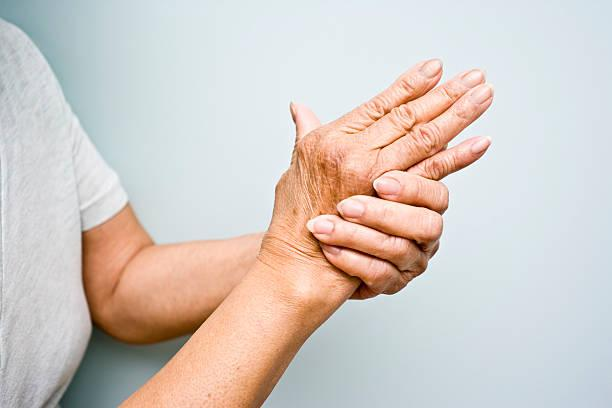Dry-Skin: (280, 137, 371, 202)
